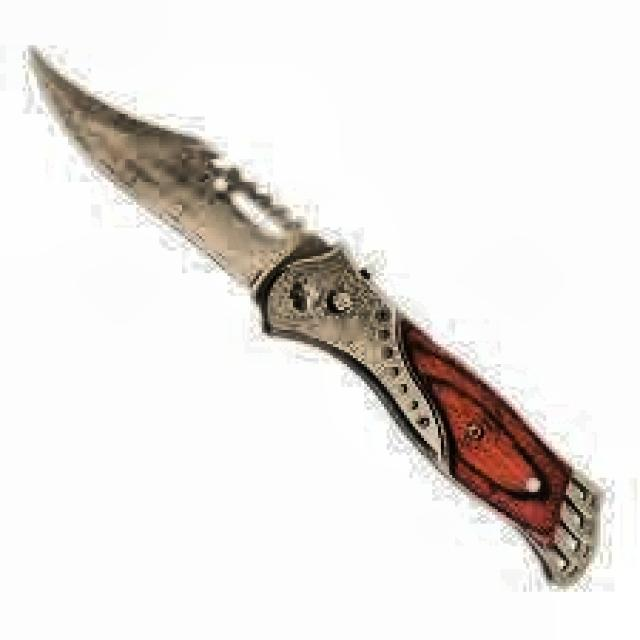knife: (31, 49, 605, 590)
